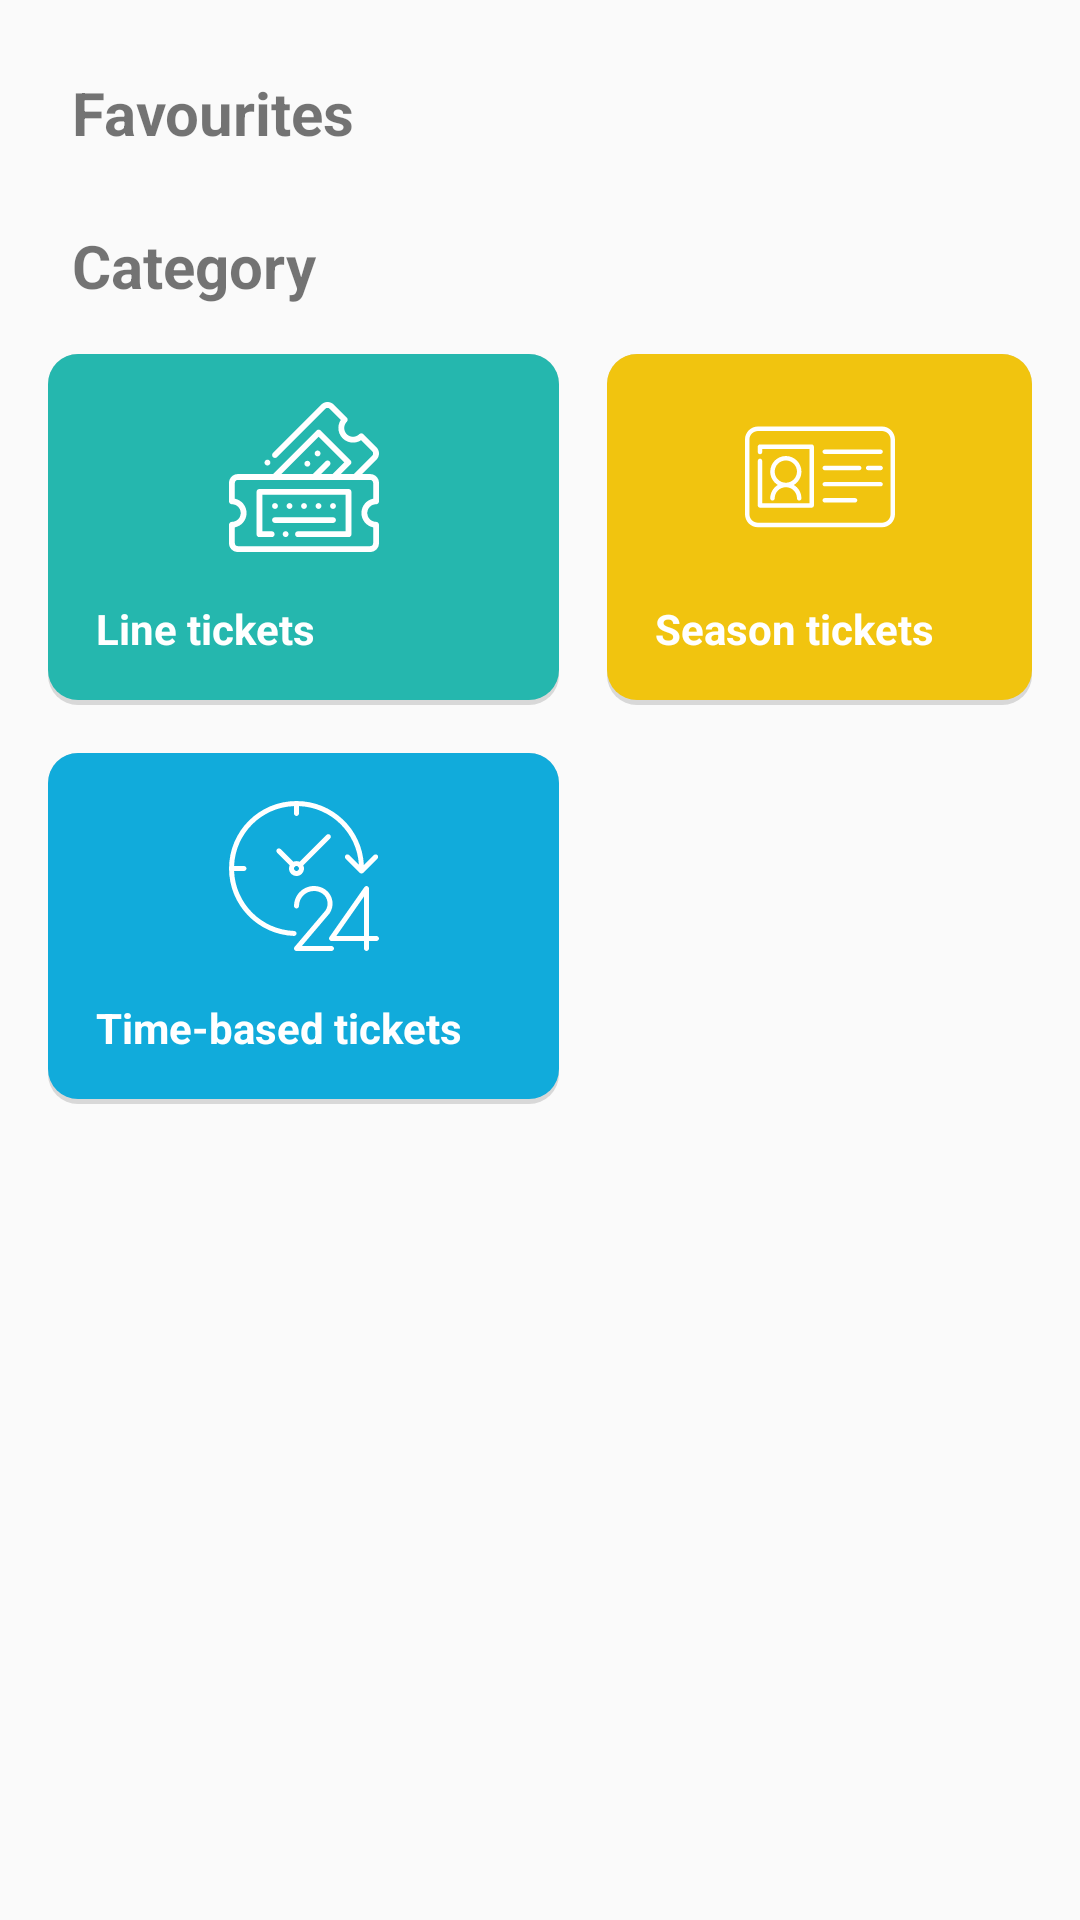

Where to tap for icons on this 1080×1920 app screen, as (x,y):
card: (820,477)
hours: (304,876)
movie tickets: (304,477)
